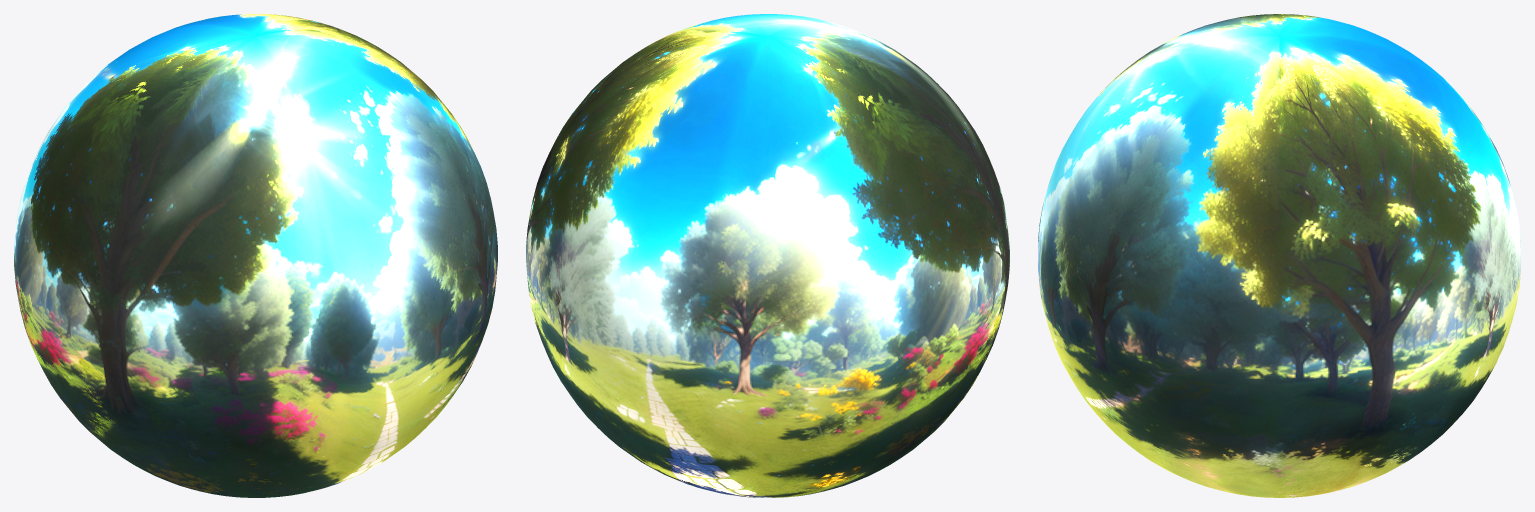
Rendered from land.glb.
3 views of the same model, side by side, from view 1: azimuth 30°, elevation 25°; view 2: azimuth 150°, elevation 25°; view 3: azimuth 270°, elevation 25° (orthographic).
Visible parts, largest first — view 1: Fairytale_Garden; view 2: Fairytale_Garden; view 3: Fairytale_Garden.
Part boxes in pixels (box(x1,y1,x2,y2)): Fairytale_Garden: box(14, 14, 497, 497); Fairytale_Garden: box(526, 14, 1009, 497); Fairytale_Garden: box(1038, 14, 1520, 497).
Bounding box in the file's own units: 0.2478 × 0.248 × 0.2473.
1 material, 1 textured.
